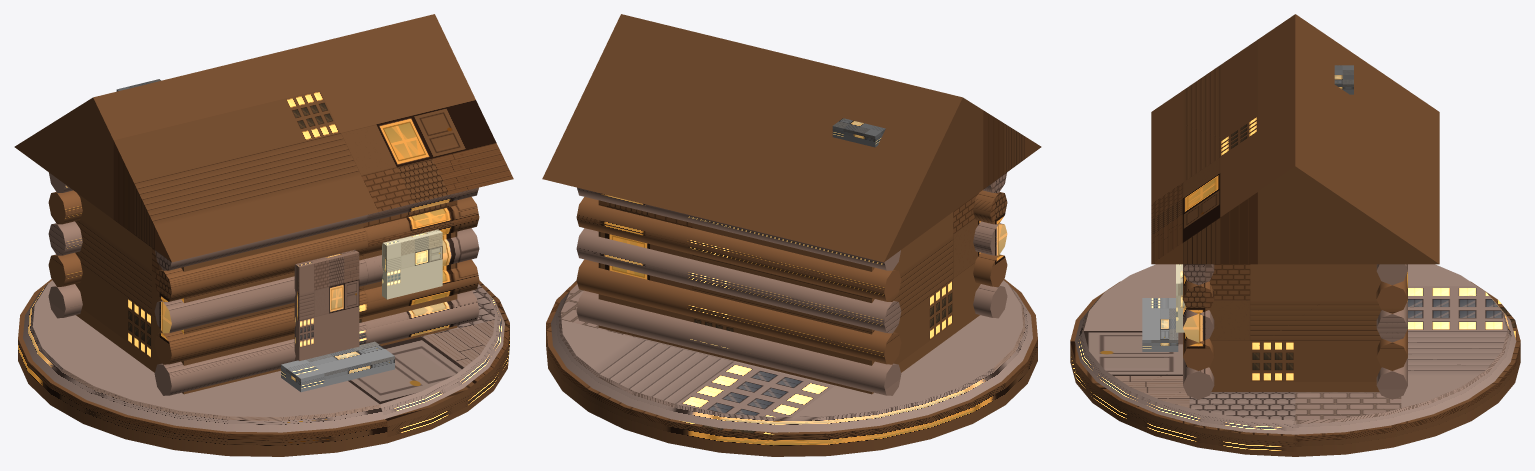
Rendered from tier-04-log-cabin.glb.
3 views of the same model, side by side, from view 1: azimuth 30°, elevation 25°; view 2: azimuth 150°, elevation 25°; view 3: azimuth 270°, elevation 25° (orthographic). The views are drawn at different scales.
Parts seen in each view (by area): view 1: toon; view 2: toon; view 3: toon.
Part boxes in pixels (x1,y1,x2,y2): toon: (14, 14, 513, 456); toon: (542, 14, 1041, 456); toon: (1070, 14, 1520, 456).
Bounding box in the file's own units: 1 × 0.665 × 1.
Materials: 1 (1 with a texture image).
